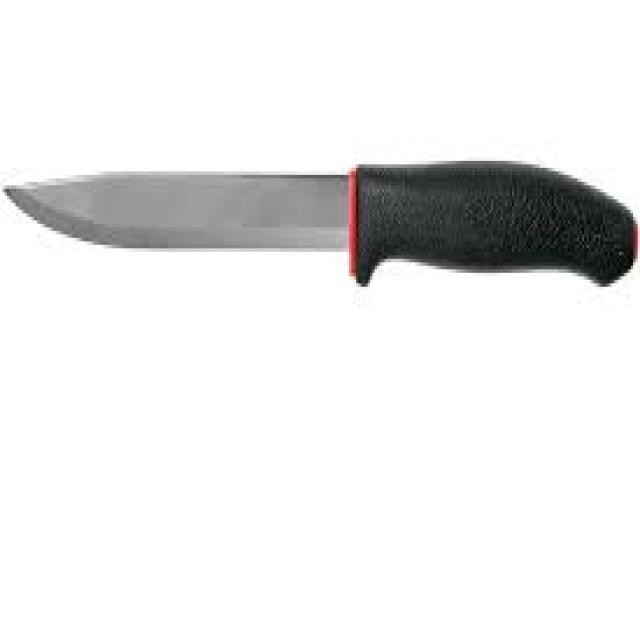knives: (0, 150, 638, 294)
